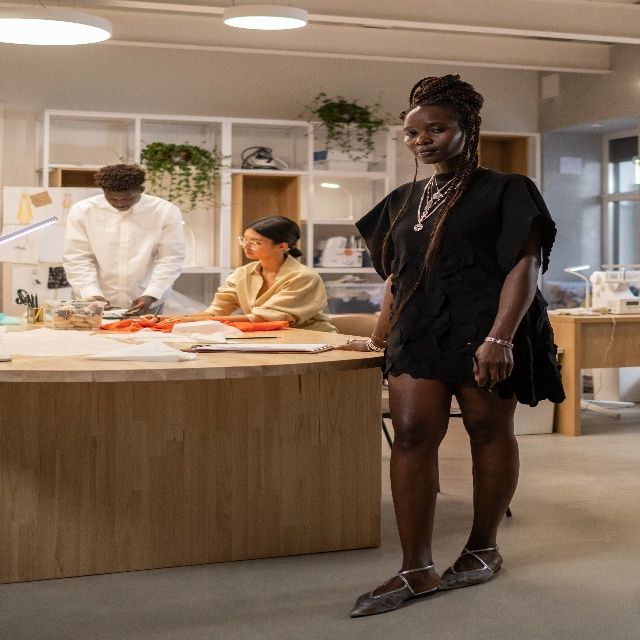Gafas: (238, 234, 276, 249)
Sin_guantes: (472, 341, 515, 387), (123, 295, 153, 319), (333, 336, 372, 352), (156, 315, 191, 327), (94, 295, 111, 310)
